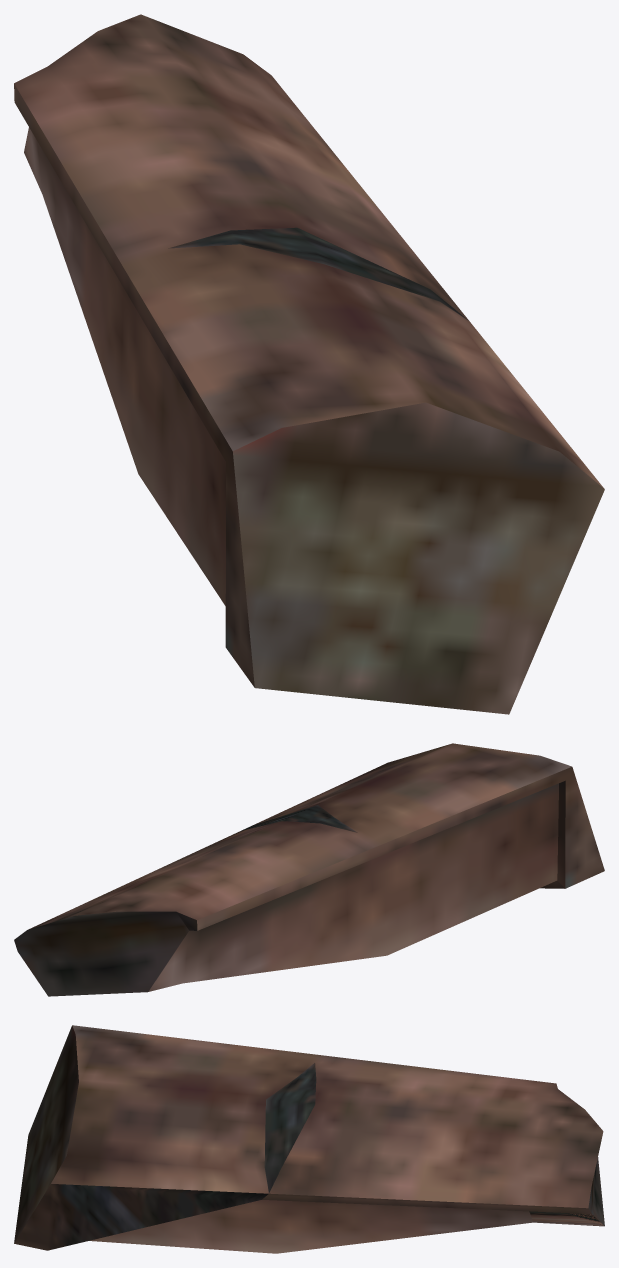
Rendered from debris_tradefed_hulk_radial_s03_l2.fbx.
3 renders of one model, top to bottom at view 1: azimuth 30°, elevation 25°; view 2: azimuth 150°, elevation 25°; view 3: azimuth 270°, elevation 25°, orthographic. The views are drawn at different scales.
Visible parts, largest first — view 1: mesh_node; view 2: mesh_node; view 3: mesh_node.
Part boxes in pixels (<box>): mesh_node: <box>14,14,604,714</box>; mesh_node: <box>14,743,604,996</box>; mesh_node: <box>14,1025,604,1253</box>.
Bounding box in the file's own units: 1.58 × 0.8542 × 2.8.
1 material, 1 textured.
